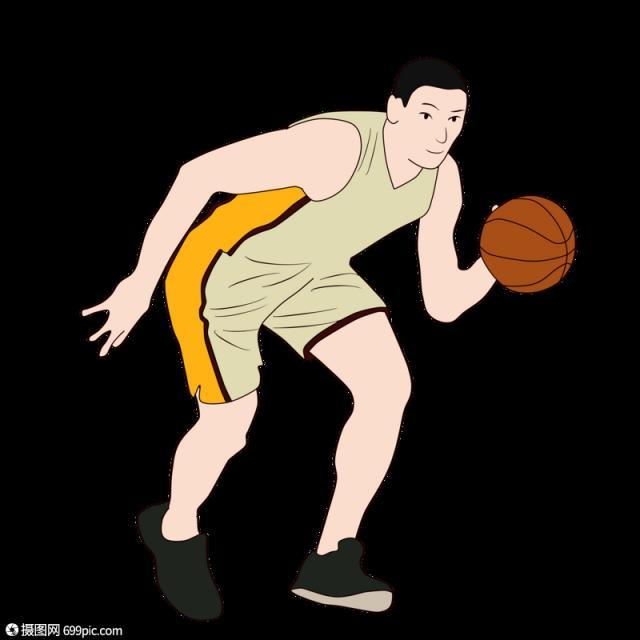rim: (479, 191, 580, 296)
